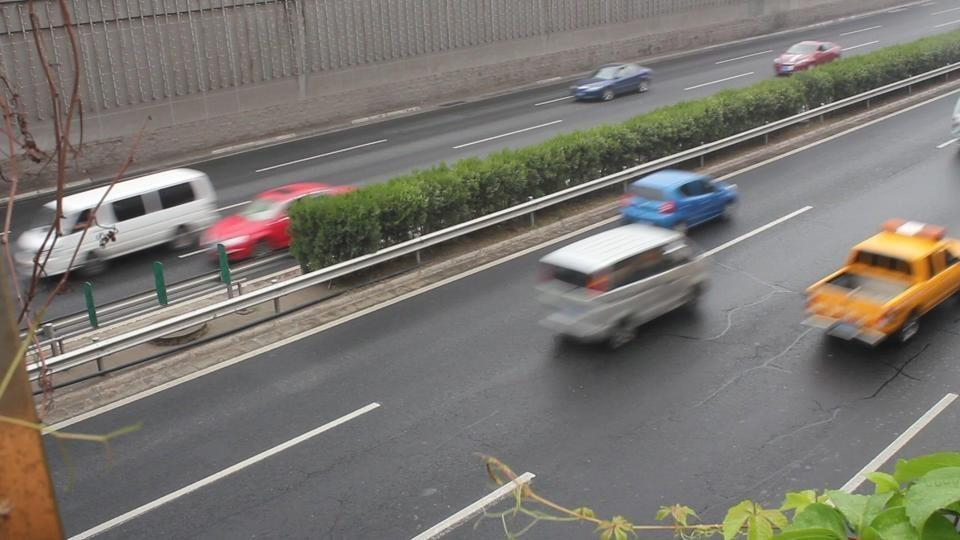car: (532, 219, 710, 352), (16, 167, 218, 283), (197, 180, 348, 263), (621, 169, 738, 231), (571, 62, 654, 103), (772, 39, 844, 77)
